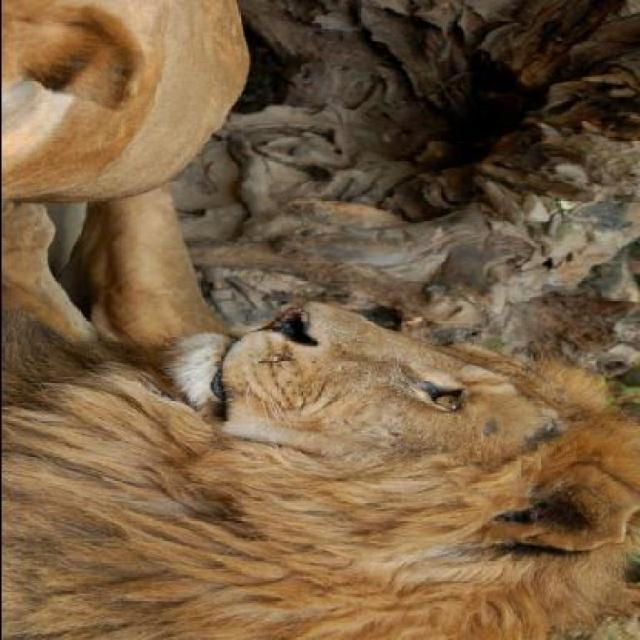Lion: (1, 274, 632, 638)
